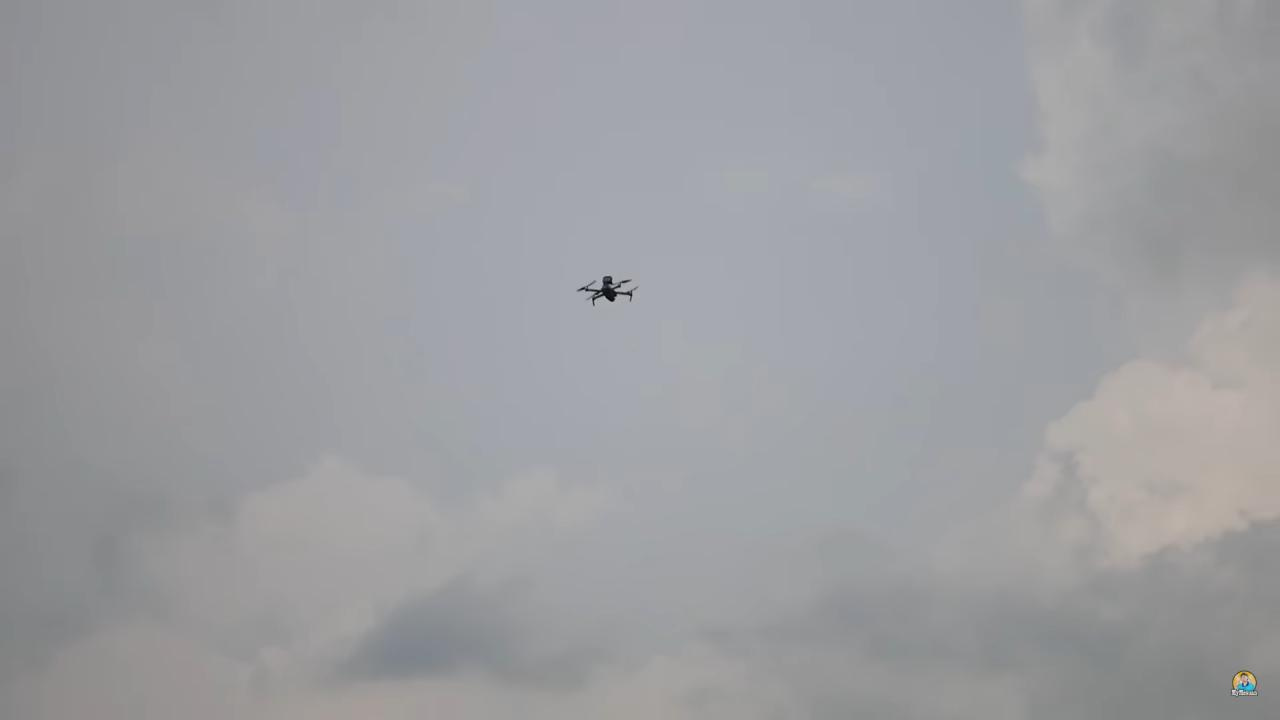Drone: (565, 265, 648, 318)
